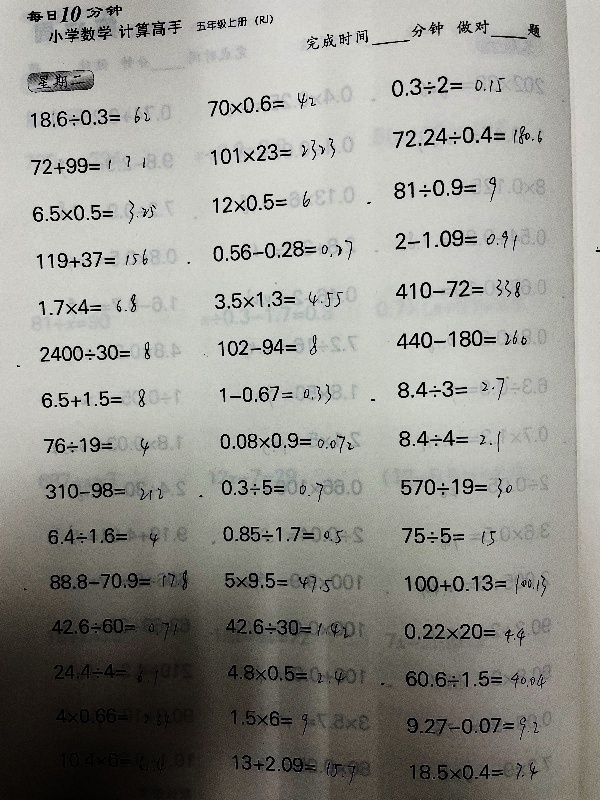equation: (227, 747, 357, 789), (394, 568, 549, 601), (400, 614, 526, 652), (399, 662, 549, 693), (400, 710, 550, 741), (399, 757, 549, 788), (388, 121, 544, 149), (221, 612, 350, 645), (48, 567, 191, 596), (43, 611, 186, 640), (214, 520, 349, 550), (217, 655, 352, 685), (208, 236, 355, 263), (46, 658, 168, 689), (51, 703, 173, 734), (49, 745, 171, 776), (214, 566, 336, 597), (390, 224, 519, 253), (206, 136, 338, 164), (215, 427, 356, 453), (390, 172, 500, 205), (390, 274, 523, 301), (210, 285, 345, 311), (27, 199, 158, 225), (391, 325, 529, 349), (386, 70, 507, 97), (392, 376, 513, 403), (220, 705, 319, 738), (214, 330, 319, 361), (396, 521, 501, 552), (41, 477, 166, 503), (396, 474, 516, 501), (216, 380, 335, 407), (395, 426, 504, 455), (35, 337, 153, 363), (26, 104, 152, 128), (216, 474, 326, 501), (47, 526, 160, 552), (26, 152, 148, 176), (32, 246, 150, 270), (36, 386, 149, 411), (42, 433, 155, 458), (203, 91, 318, 115), (208, 189, 313, 215), (35, 293, 142, 317)
